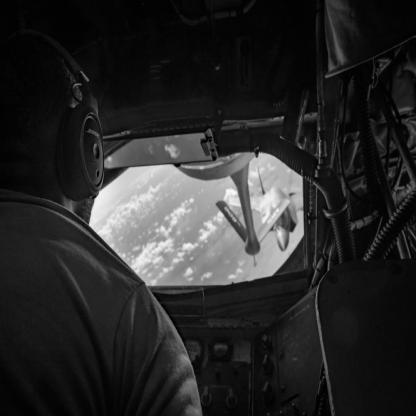F35: (229, 166, 304, 253)
